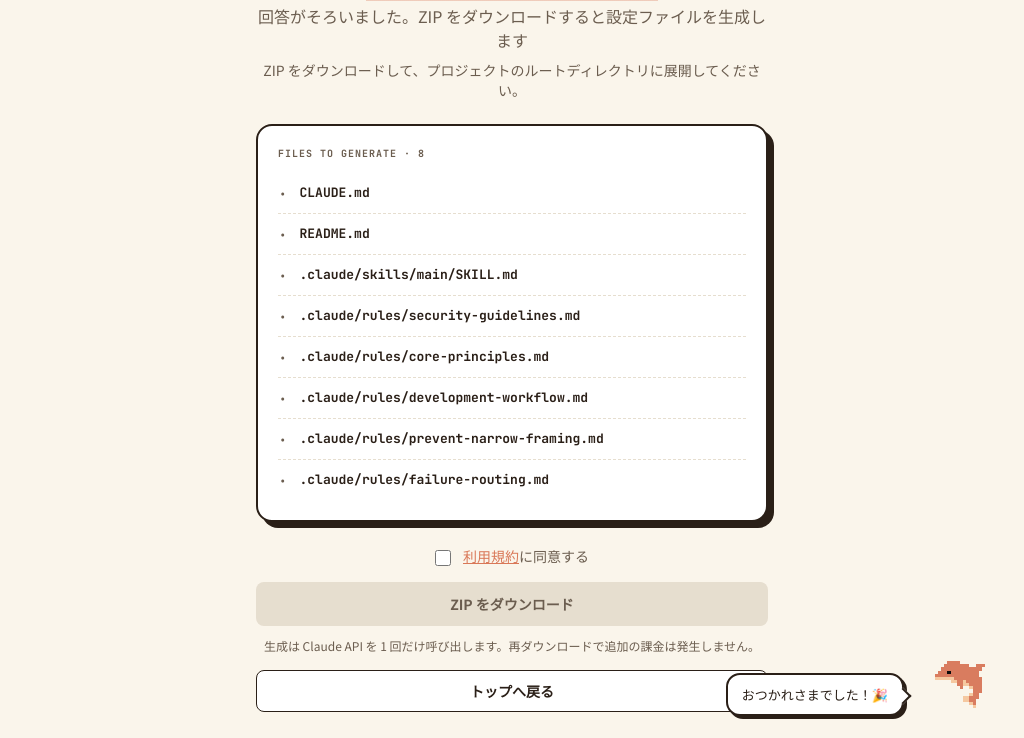
Test case: CompletePage（統一フロー: 同意 → 生成 → DL） › 生成失敗で ErrorBanner 表示 ＋ error_occurred が code 別に発火
(page scrolled)
Click the checkbox.
click(443, 558)  # box [435,550,451,566]
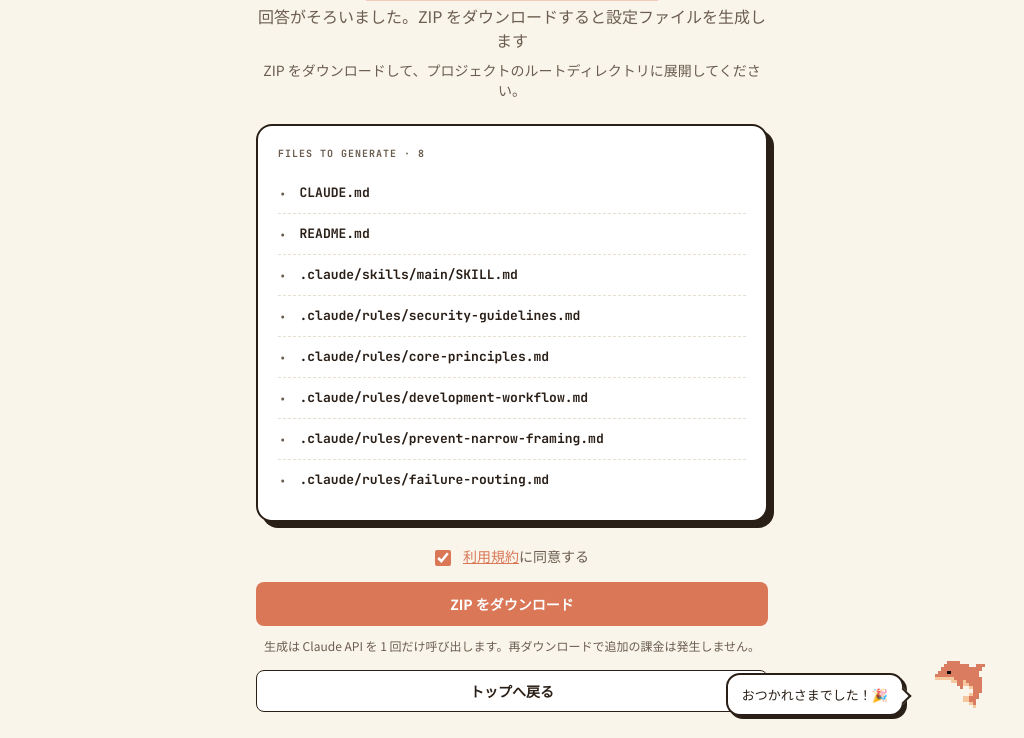
Click the button "ZIP をダウンロード".
click(512, 604)  # box [256,582,768,626]
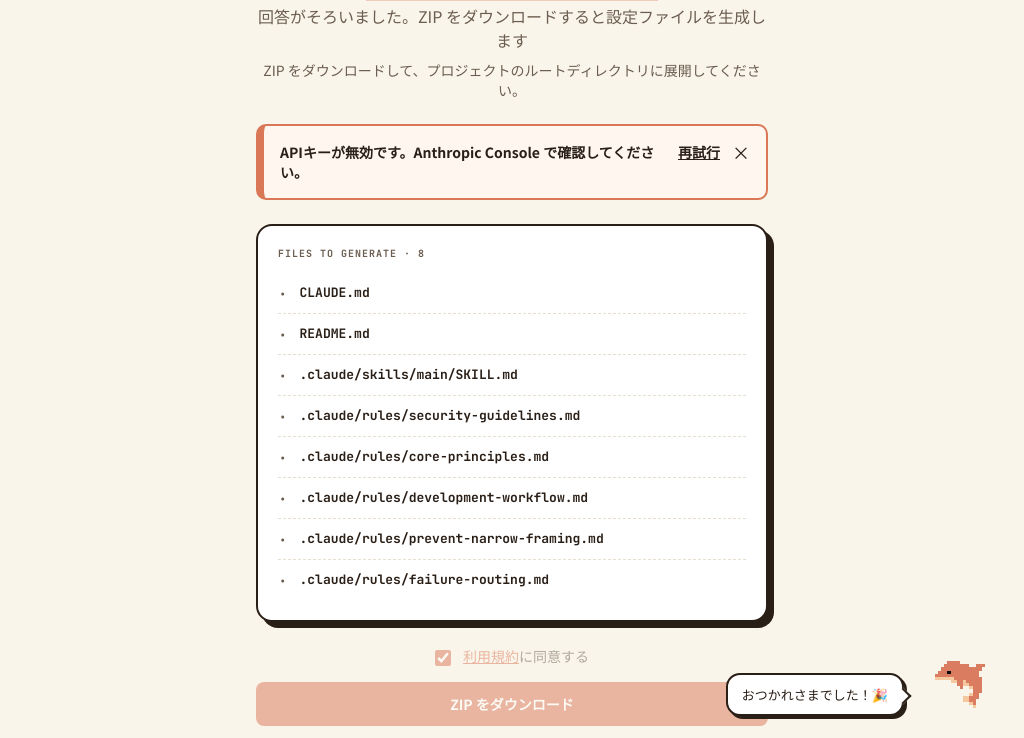
Expected: the message "APIキーが無効です。Anthropic Console で確認してください。 再試行 ×" is shown, [256,124,768,200]
